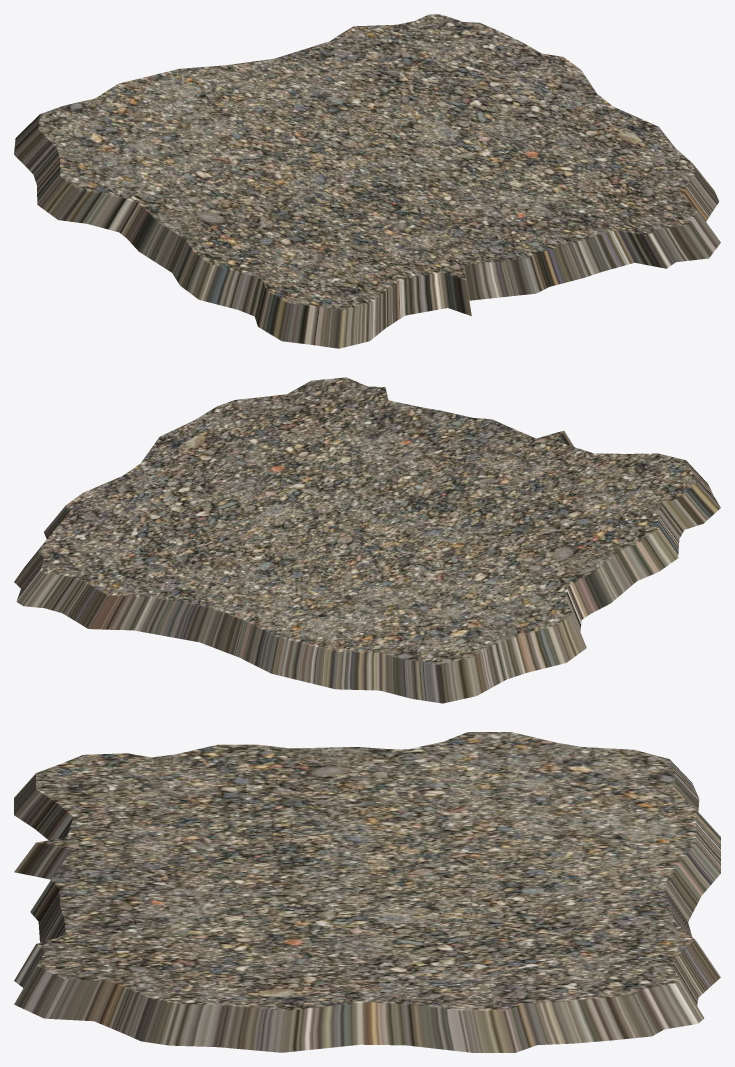
Rendered from Isla.obj.
The picture shows the model from 3 angles, top to bottom: view 1: azimuth 30°, elevation 25°; view 2: azimuth 150°, elevation 25°; view 3: azimuth 270°, elevation 25°; orthographic projection. The views are drawn at different scales.
Parts seen in each view (by area): view 1: Cubo; view 2: Cubo; view 3: Cubo.
Boxes of the visible parts, bbox=[...] form: Cubo: bbox=[14, 14, 720, 348]; Cubo: bbox=[14, 377, 720, 703]; Cubo: bbox=[14, 732, 720, 1052].
Bounding box in the file's own units: 15.57 × 0.7746 × 15.57.
1 material, 1 textured.
